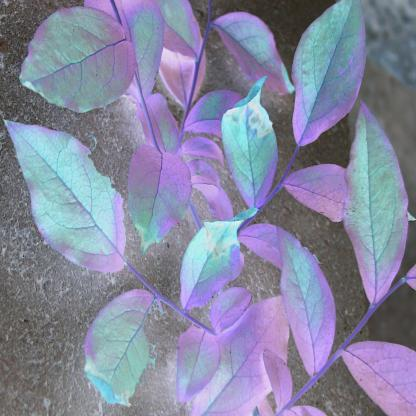blueberry leaf: (7, 121, 137, 280), (337, 103, 408, 315), (188, 291, 298, 416), (17, 5, 144, 111), (267, 219, 343, 381), (290, 2, 367, 148), (74, 287, 161, 403), (172, 213, 254, 314), (123, 133, 191, 252), (211, 19, 295, 97), (211, 285, 253, 338)
